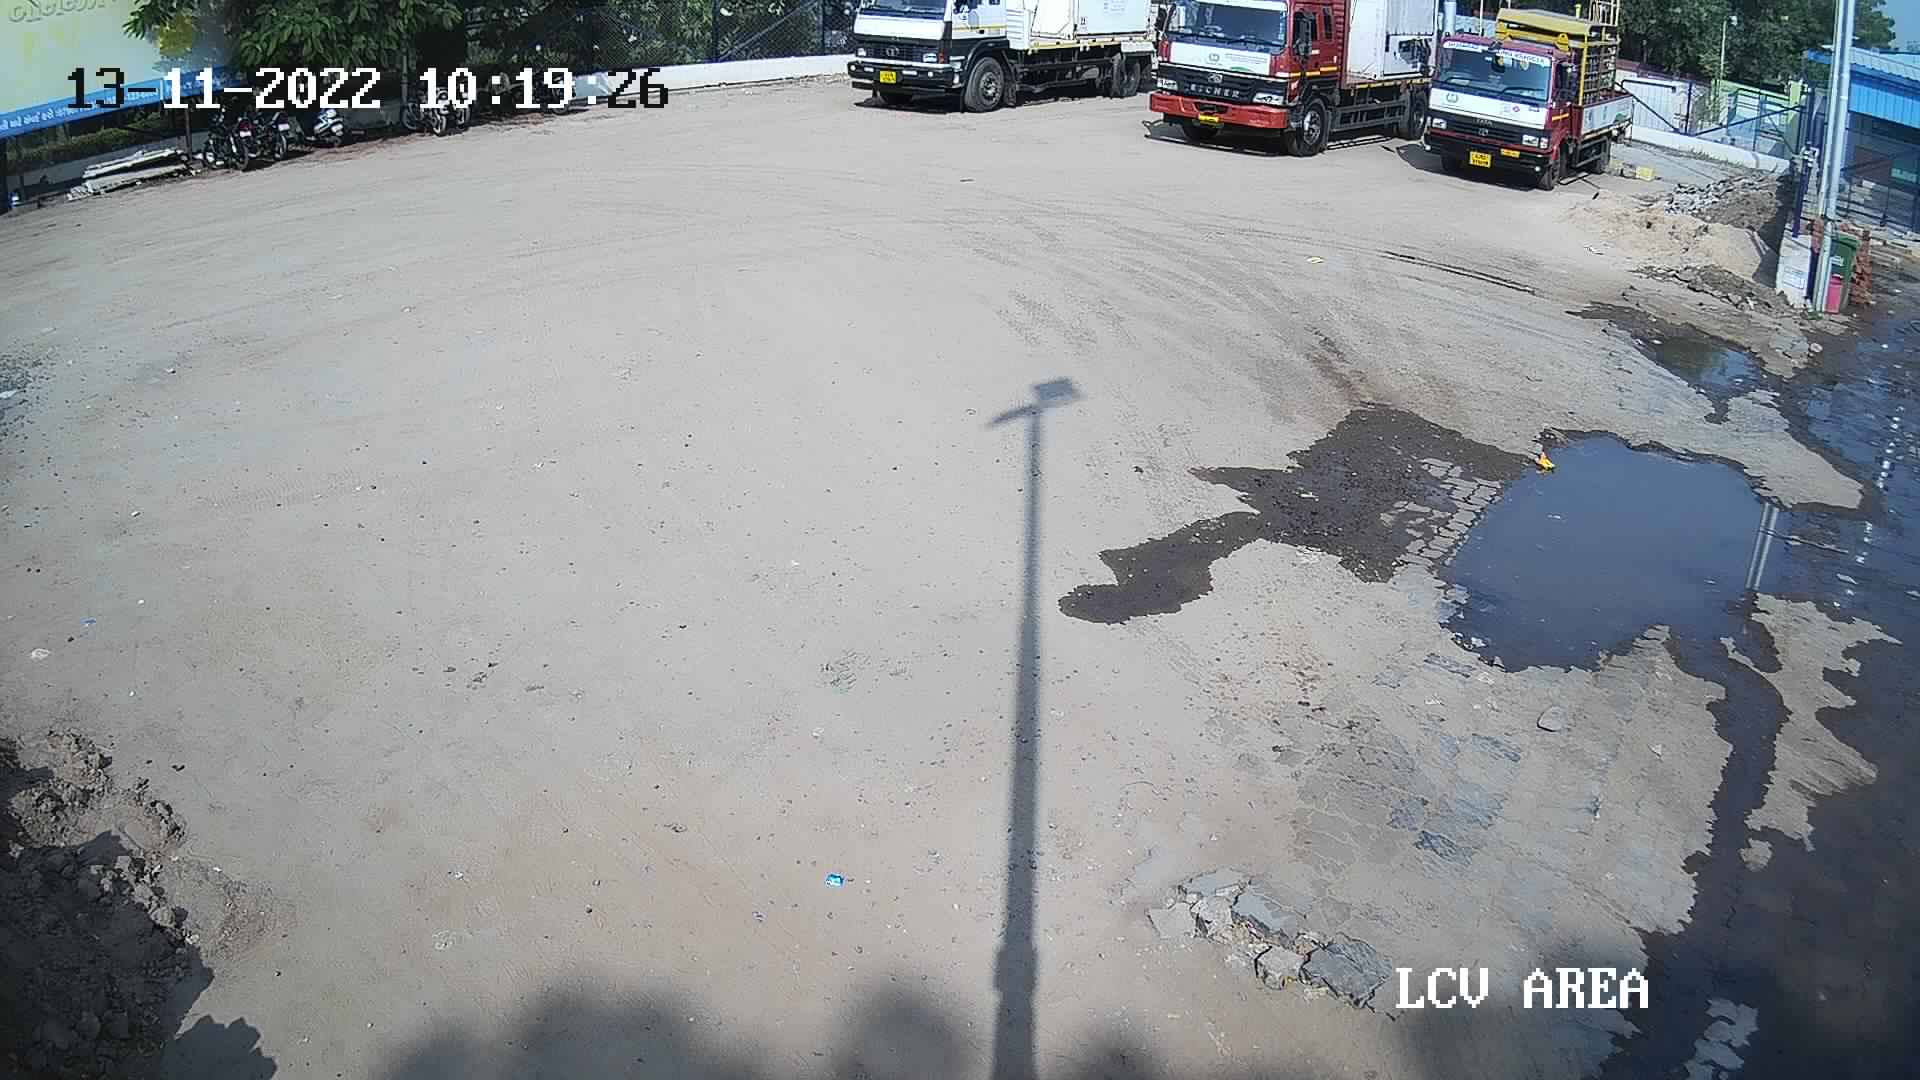HMV: (1139, 0, 1501, 161), (1389, 0, 1640, 191), (828, 0, 1179, 112)
